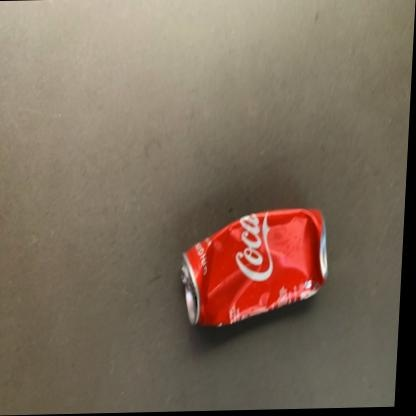trash: (181, 209, 326, 326)
